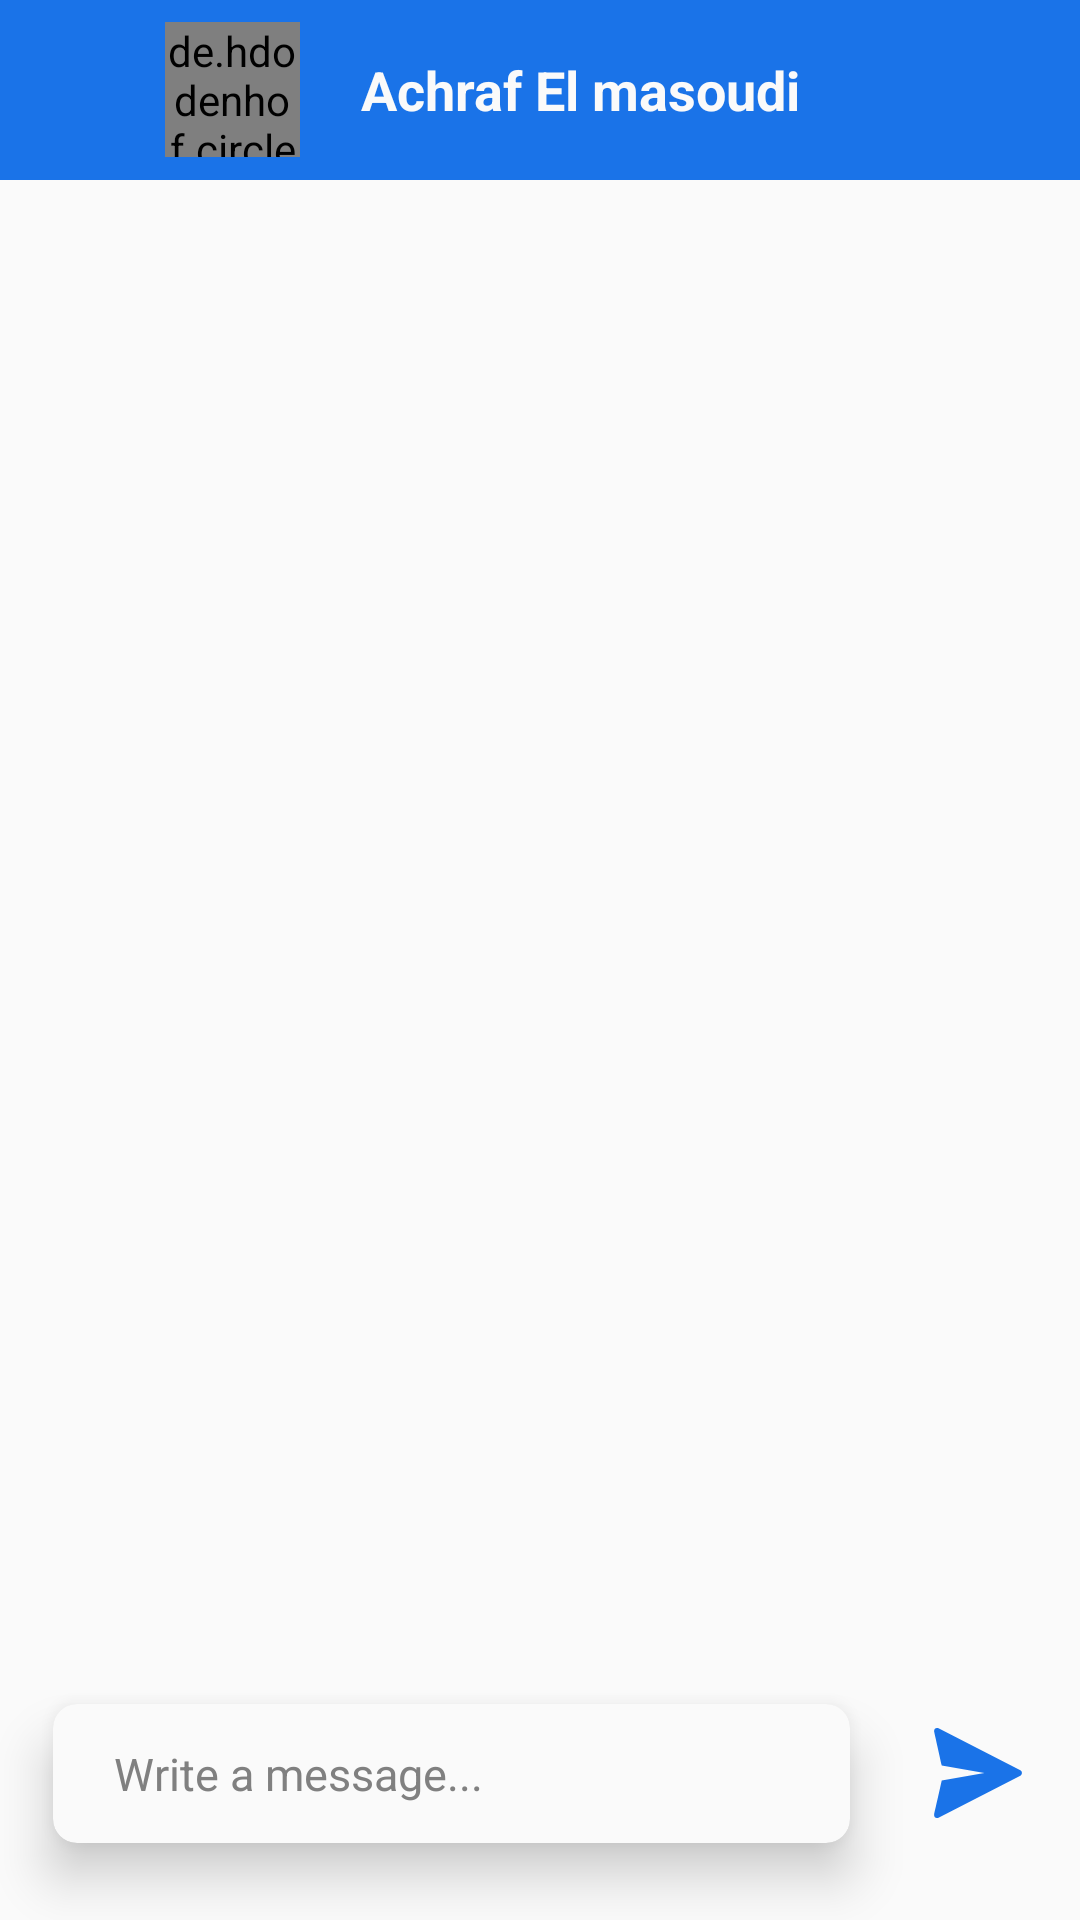

Named icons in this screenshot (1080x1920) and their bounding boxes, (x1=x1, y1=y1, x2=x2, y2=y2):
send msg: (x1=934, y1=1728, x2=1022, y2=1818)
